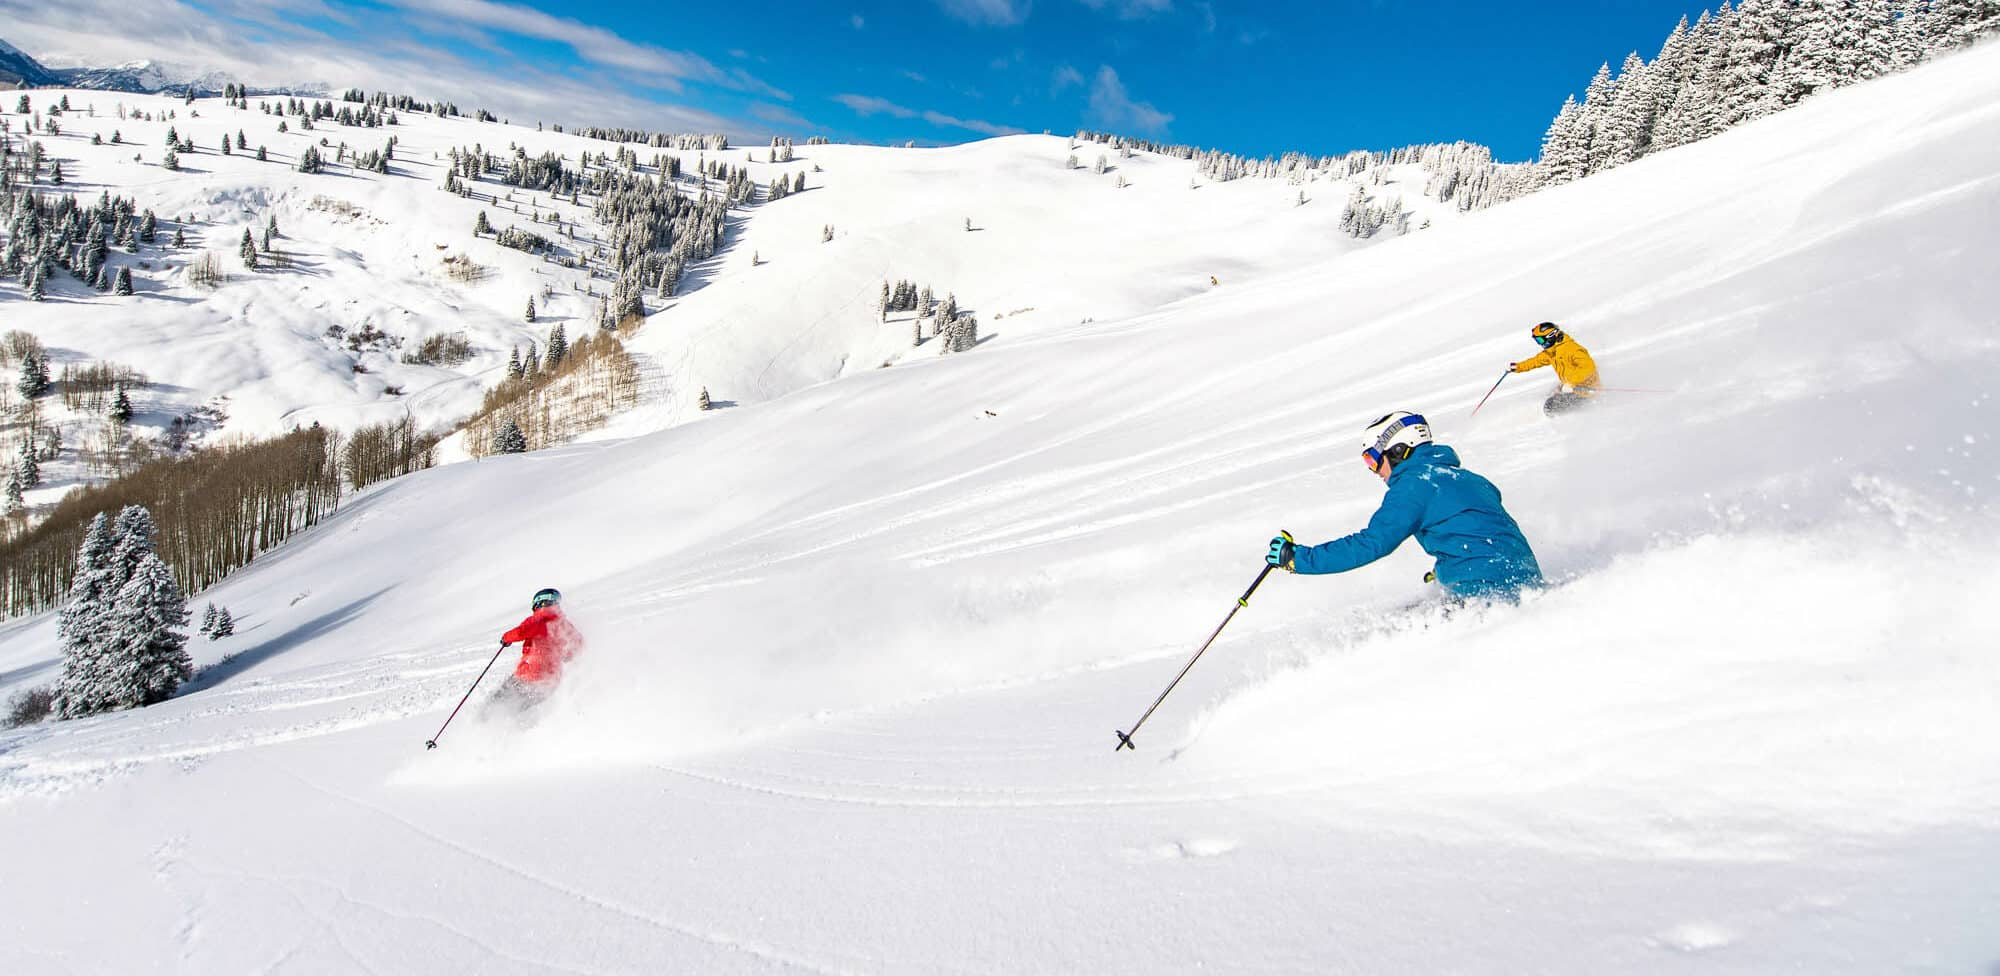skier: (1111, 411, 1552, 783), (408, 589, 583, 751), (1467, 322, 1603, 433)
